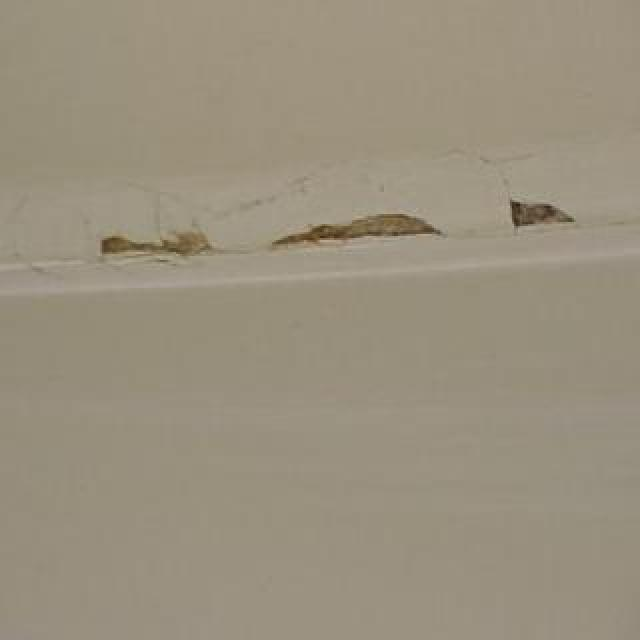crack: (441, 147, 640, 239), (265, 210, 449, 250), (103, 215, 235, 263)
